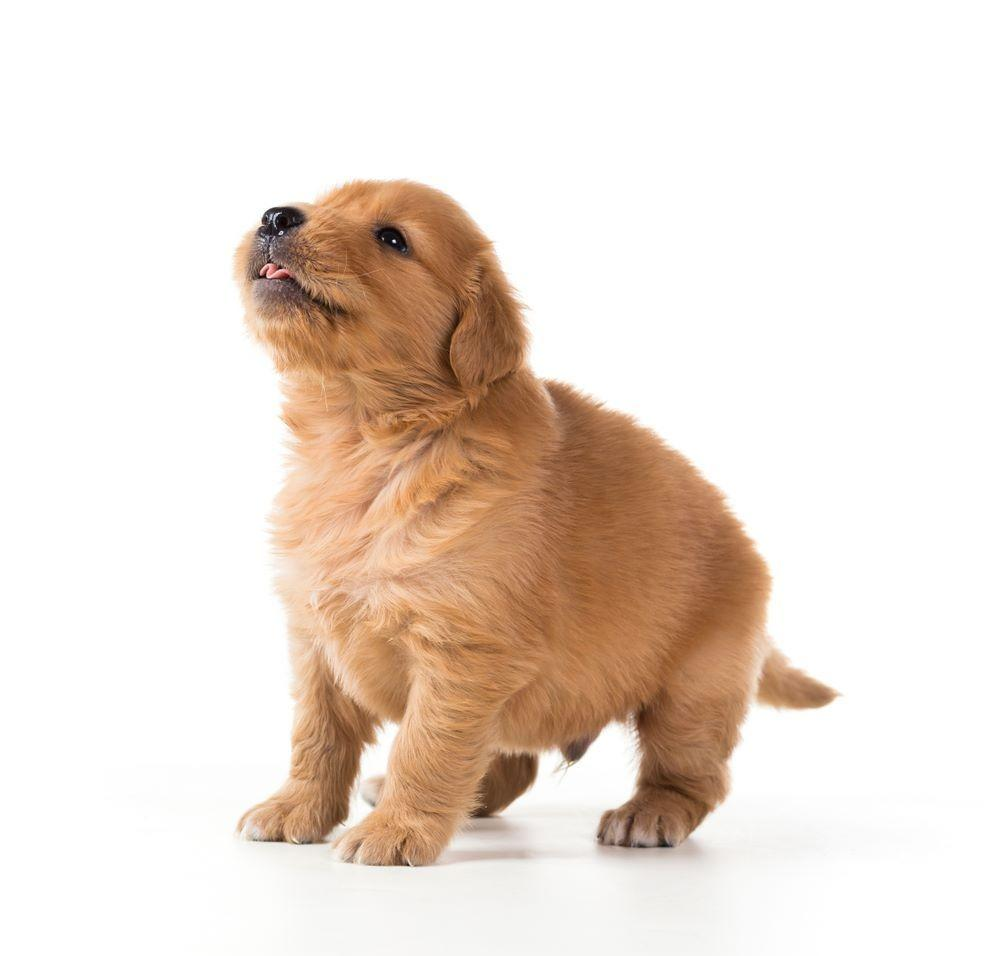puppy-dog: (232, 178, 846, 871)
